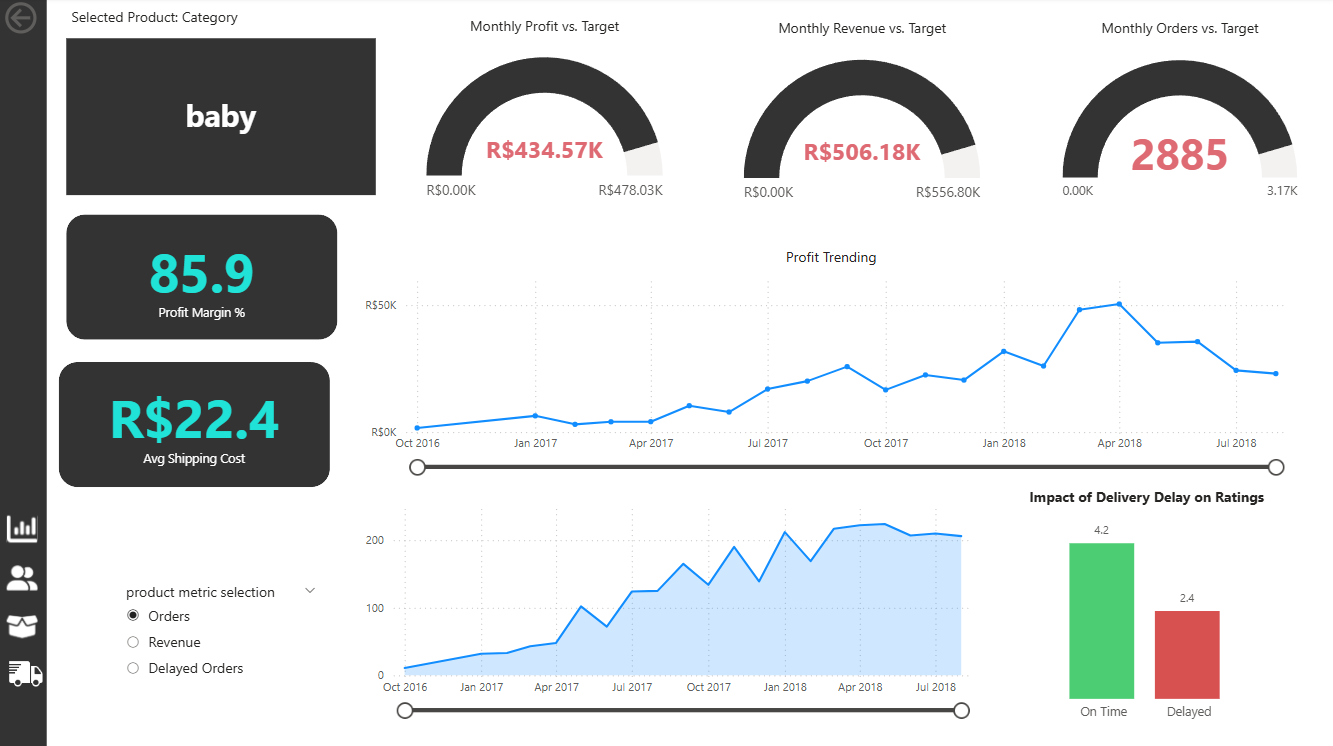

The dashboard page shown, as its layout file describes it:
{"tool":"powerbi","page":{"name":"Product Performance Analytics","canvas":[1280,720],"ordinal":2},"visuals":[{"type":"shape","box":[0,0,45,720],"z":0},{"type":"shape","box":[63.3,208.3,260,120],"z":1000},{"type":"shape","box":[56.7,350,260,120],"z":2000},{"type":"card","fields":{"Values":["Measures table.Average Shipping Cost"]},"box":[56.7,350,260,120],"z":3000},{"type":"card","fields":{"Values":["Measures table.Most On-Time Category"]},"box":[1471.2,595,241.2,48.8],"z":4000},{"type":"gauge","title":"Monthly Orders vs. Target","fields":{"Y":["Measures table.Total Orders"],"MaxValue":["Measures table.Order Target"]},"box":[1013.3,20,235,201.7],"z":5000},{"type":"gauge","title":"Monthly Revenue vs. Target","fields":{"Y":["Measures table.Revenue"],"MaxValue":["Measures table.Revenue Target"]},"box":[708.3,20,236.7,203.3],"z":6000},{"type":"gauge","title":"Monthly Profit vs. Target","fields":{"Y":["Measures table.net profit"],"MaxValue":["Measures table.Profit Target"]},"box":[403.3,18.3,236.7,203.3],"z":7000},{"type":"actionButton","box":[0,0,45,40],"z":8000},{"type":"card","fields":{"Values":["Min(gold dim_products.product_category)"]},"box":[63.3,40,296.7,150],"z":9000},{"type":"textbox","box":[63.3,5,190,35],"z":10000},{"type":"actionButton","box":[2.5,491.2,45,37.5],"z":11000},{"type":"actionButton","box":[2,585,45.6,37.8],"z":12000},{"type":"actionButton","box":[2,538,45.6,37.8],"z":13000},{"type":"image","box":[2,632,45,32.5],"z":14000},{"type":"lineChart","title":"Profit Trending","fields":{"Category":["Date_Table.Date.Variation.Date Hierarchy.Year","Date_Table.Date.Variation.Date Hierarchy.Month"],"Y":["Measures table.net profit"]},"box":[345,240,903.3,221.7],"z":15000},{"type":"slicer","fields":{"Values":["product metric selection.product metric selection"]},"box":[107.5,556.2,207.5,122.5],"z":16000},{"type":"areaChart","title":"Return Trending","fields":{"Y":["Measures table.Total Orders"],"Category":["Date_Table.Date.Variation.Date Hierarchy.Year","Date_Table.Date.Variation.Date Hierarchy.Month"]},"box":[345,475,601.7,220],"z":17000},{"type":"card","fields":{"Values":["Measures table.Profit Margin %"]},"box":[63.3,208.3,260,121.7],"z":18000},{"type":"clusteredColumnChart","title":"Impact of Delivery Delay on Ratings","fields":{"Y":["Measures table.Average Review Score"],"Category":["gold fact_orders.Delivery Status"]},"box":[946.7,470,305,233.3],"z":19000}]}

Visuals, with their boxes on the page's 1280x720 design canvas (x1, y1, x2, y2). These are canvas units, not pixel positions in the 1333x746 screenshot, which may show the page scaled, cropped or inside an application window:
shape: 0,0,45,720
shape: 63,208,323,328
shape: 57,350,317,470
card - Measures table.Average Shipping Cost: 57,350,317,470
card - Measures table.Most On-Time Category: 1471,595,1712,644
"Monthly Orders vs. Target" gauge: 1013,20,1248,222
"Monthly Revenue vs. Target" gauge: 708,20,945,223
"Monthly Profit vs. Target" gauge: 403,18,640,222
actionButton: 0,0,45,40
card - Min(gold dim_products.product_category): 63,40,360,190
textbox: 63,5,253,40
actionButton: 2,491,48,529
actionButton: 2,585,48,623
actionButton: 2,538,48,576
image: 2,632,47,664
"Profit Trending" lineChart: 345,240,1248,462
slicer - product metric selection.product metric selection: 108,556,315,679
"Return Trending" areaChart: 345,475,947,695
card - Measures table.Profit Margin %: 63,208,323,330
"Impact of Delivery Delay on Ratings" clusteredColumnChart: 947,470,1252,703
